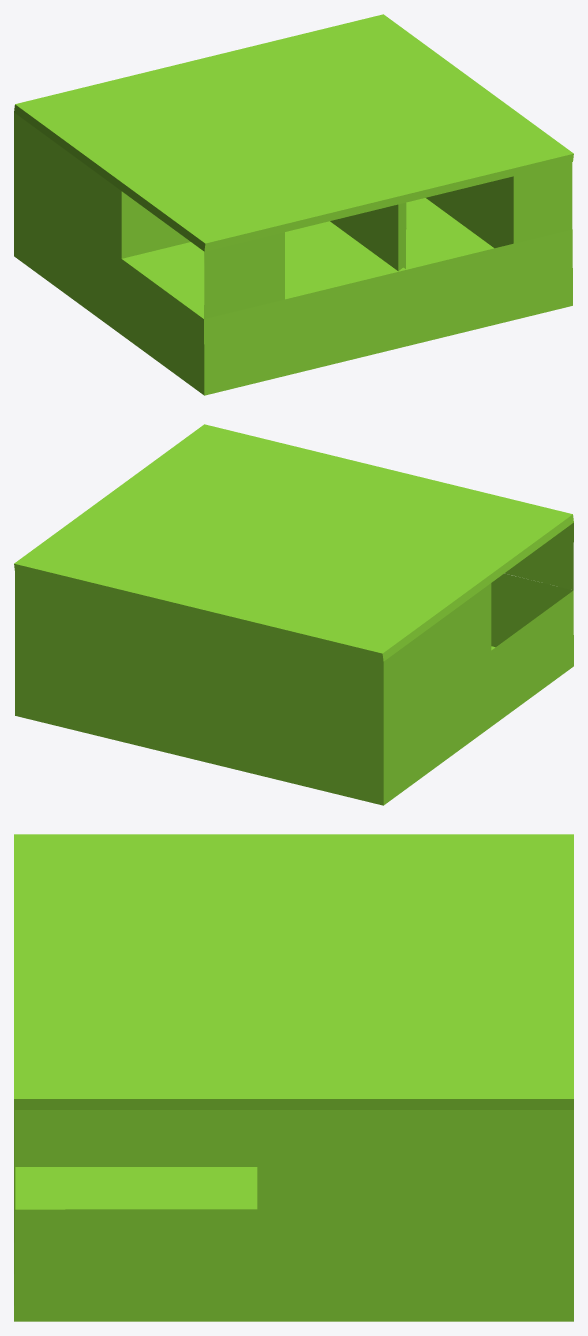
Rendered from blue_bottom.obj.
The picture shows the model from 3 angles, top to bottom: view 1: azimuth 30°, elevation 25°; view 2: azimuth 150°, elevation 25°; view 3: azimuth 270°, elevation 25°; orthographic projection. The views are drawn at different scales.
Visible parts, largest first — view 1: black_wall.013; view 2: black_wall.013; view 3: black_wall.013.
Part boxes in pixels (x1,y1,x2,y2): black_wall.013: (14, 14, 573, 395); black_wall.013: (14, 424, 573, 805); black_wall.013: (14, 834, 573, 1321).
Size of the model in its own units: 39.72 by 15.6 by 35.45.
Materials: 1 (1 with a texture image).
